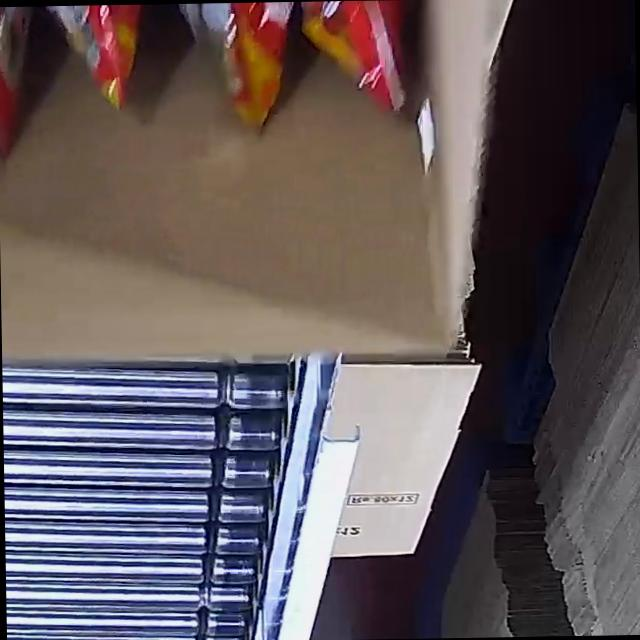masala: (0, 0, 433, 159)
